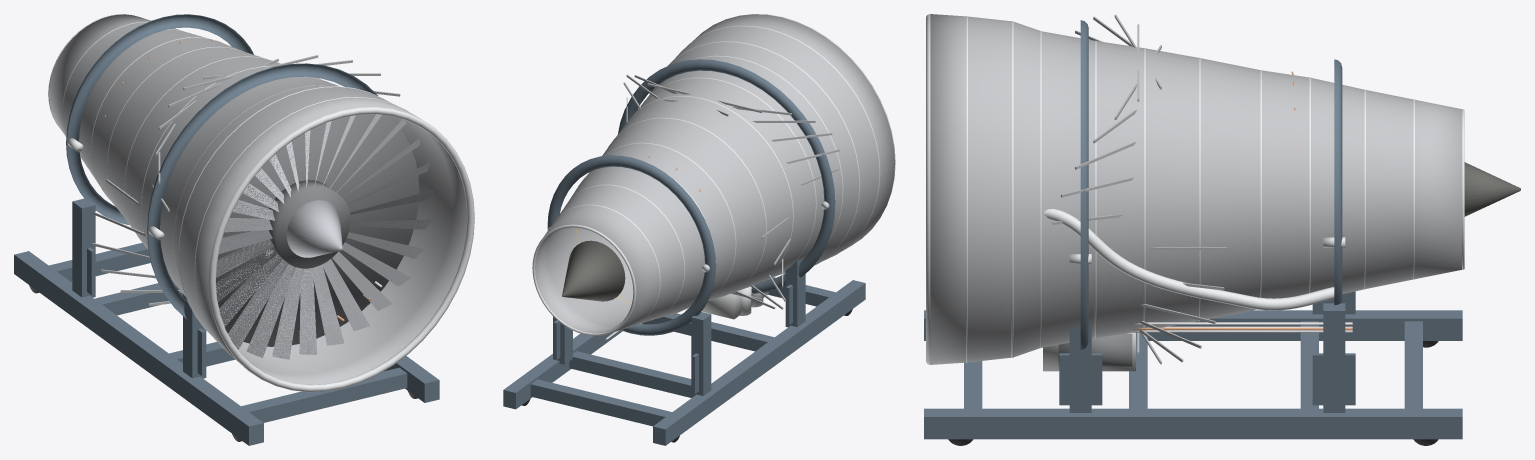
Rendered from engine.fbx.
3 renders of one model, left to right at view 1: azimuth 30°, elevation 25°; view 2: azimuth 150°, elevation 25°; view 3: azimuth 270°, elevation 25°, orthographic. The views are drawn at different scales.
Visible parts, largest first — view 1: Engine_Continuous_Hull, Engine_Internal_Bulkhead, Stand_Floor_Rail_-0.95, Intake_Aerodynamic_Lip, Stand_Front_Support_Saddle, Stand_Rear_Support_Saddle, Stand_Crossbeam_-1.8, Engine_Fan_Hub, Engine_Fan_Spinner, Stand_Rear_Post_-0.88, Fan_Blade_12, Fan_Blade_11 (+22 smaller); view 2: Engine_Continuous_Hull, Stand_Floor_Rail_-0.95, Stand_Front_Support_Saddle, Stand_Rear_Support_Saddle, Exhaust_Centerbody_Plug, Stand_Crossbeam_1.8, Stand_Crossbeam_0.95, Stand_Floor_Rail_0.95, Stand_Rear_Post_-0.88, Stand_Crossbeam_-0.45, Structural_Flange_10, Stand_Front_Post_-0.88 (+9 smaller); view 3: Engine_Continuous_Hull, Stand_Floor_Rail_0.95, Stand_Floor_Rail_-0.95, Bleed_Air_Main_Duct, Stand_Front_Support_Saddle, Stand_Rear_Post_0.88, Stand_Rear_Support_Saddle, Stand_Front_Post_0.88, Intake_Aerodynamic_Lip, Exhaust_Centerbody_Plug, Stand_Crossbeam_1.8, Starter_Generator_Pod (+12 smaller).
Boxes of the visible parts, x1=… form: Engine_Continuous_Hull: x1=49, y1=14, x2=467, y2=384; Engine_Internal_Bulkhead: x1=216, y1=114, x2=419, y2=346; Stand_Floor_Rail_-0.95: x1=14, y1=251, x2=263, y2=445; Intake_Aerodynamic_Lip: x1=209, y1=107, x2=474, y2=392; Stand_Front_Support_Saddle: x1=147, y1=63, x2=377, y2=318; Stand_Rear_Support_Saddle: x1=66, y1=14, x2=253, y2=224; Stand_Crossbeam_-1.8: x1=241, y1=367, x2=407, y2=422; Engine_Fan_Hub: x1=269, y1=180, x2=350, y2=268; Engine_Fan_Spinner: x1=286, y1=200, x2=342, y2=257; Stand_Rear_Post_-0.88: x1=72, y1=198, x2=95, y2=297; Fan_Blade_12: x1=246, y1=264, x2=295, y2=357; Fan_Blade_11: x1=228, y1=259, x2=288, y2=349; Engine_Continuous_Hull: x1=535, y1=14, x2=894, y2=333; Stand_Floor_Rail_-0.95: x1=653, y1=280, x2=865, y2=445; Stand_Front_Support_Saddle: x1=618, y1=59, x2=835, y2=293; Stand_Rear_Support_Saddle: x1=547, y1=155, x2=715, y2=335; Exhaust_Centerbody_Plug: x1=562, y1=240, x2=625, y2=301; Stand_Crossbeam_1.8: x1=530, y1=379, x2=671, y2=426; Stand_Crossbeam_0.95: x1=569, y1=351, x2=693, y2=397; Stand_Floor_Rail_0.95: x1=503, y1=330, x2=622, y2=409; Stand_Rear_Post_-0.88: x1=691, y1=312, x2=711, y2=396; Stand_Crossbeam_-0.45: x1=641, y1=313, x2=774, y2=351; Structural_Flange_10: x1=532, y1=224, x2=636, y2=335; Stand_Front_Post_-0.88: x1=785, y1=259, x2=805, y2=327; Engine_Continuous_Hull: x1=930, y1=14, x2=1461, y2=364; Stand_Floor_Rail_0.95: x1=924, y1=408, x2=1462, y2=439; Stand_Floor_Rail_-0.95: x1=924, y1=310, x2=1462, y2=340; Bleed_Air_Main_Duct: x1=1044, y1=209, x2=1334, y2=310; Stand_Front_Support_Saddle: x1=1080, y1=20, x2=1088, y2=349; Stand_Rear_Post_0.88: x1=1323, y1=303, x2=1345, y2=412; Stand_Rear_Support_Saddle: x1=1334, y1=59, x2=1342, y2=305; Stand_Front_Post_0.88: x1=1069, y1=323, x2=1091, y2=412; Intake_Aerodynamic_Lip: x1=926, y1=14, x2=930, y2=364; Exhaust_Centerbody_Plug: x1=1464, y1=162, x2=1520, y2=216; Stand_Crossbeam_1.8: x1=1404, y1=321, x2=1422, y2=408; Starter_Generator_Pod: x1=1058, y1=333, x2=1132, y2=366.
Size of the model in its own units: 287 by 329 by 488.
